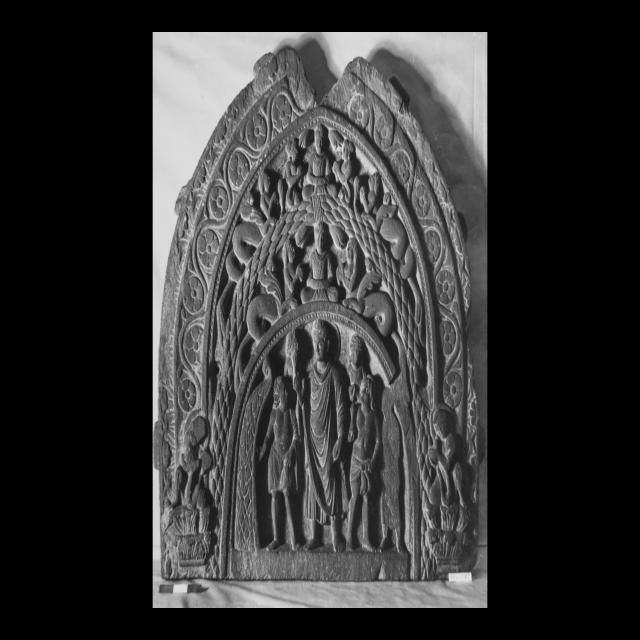buddha-sitting: (301, 222, 339, 303), (302, 124, 336, 200)
buddha-standing: (285, 320, 348, 551)
